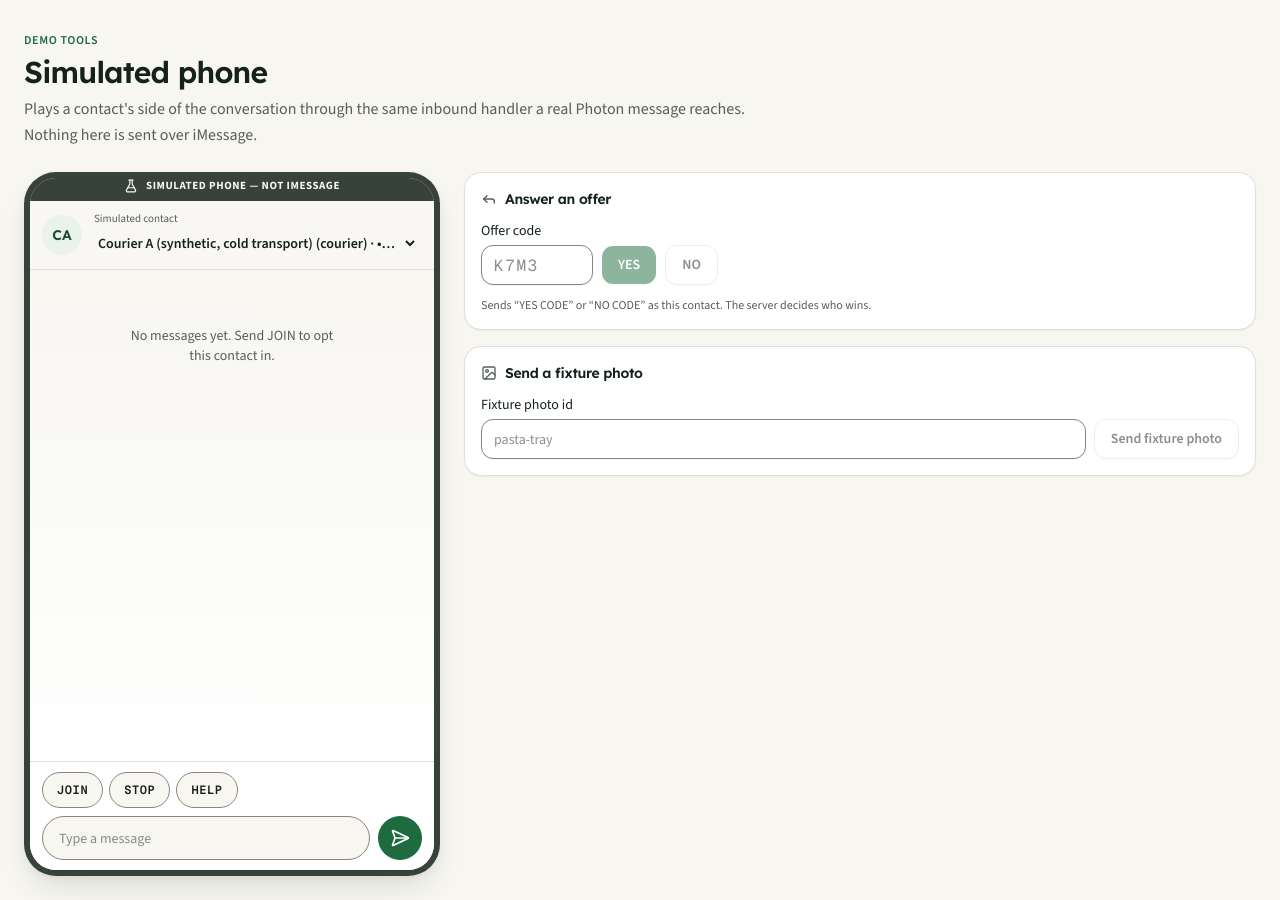
Scenario: SimulatedPhone › shows a server refusal verbatim
The image size is (1280, 900).
Click the button "JOIN": (73, 790) [42,772,103,808]
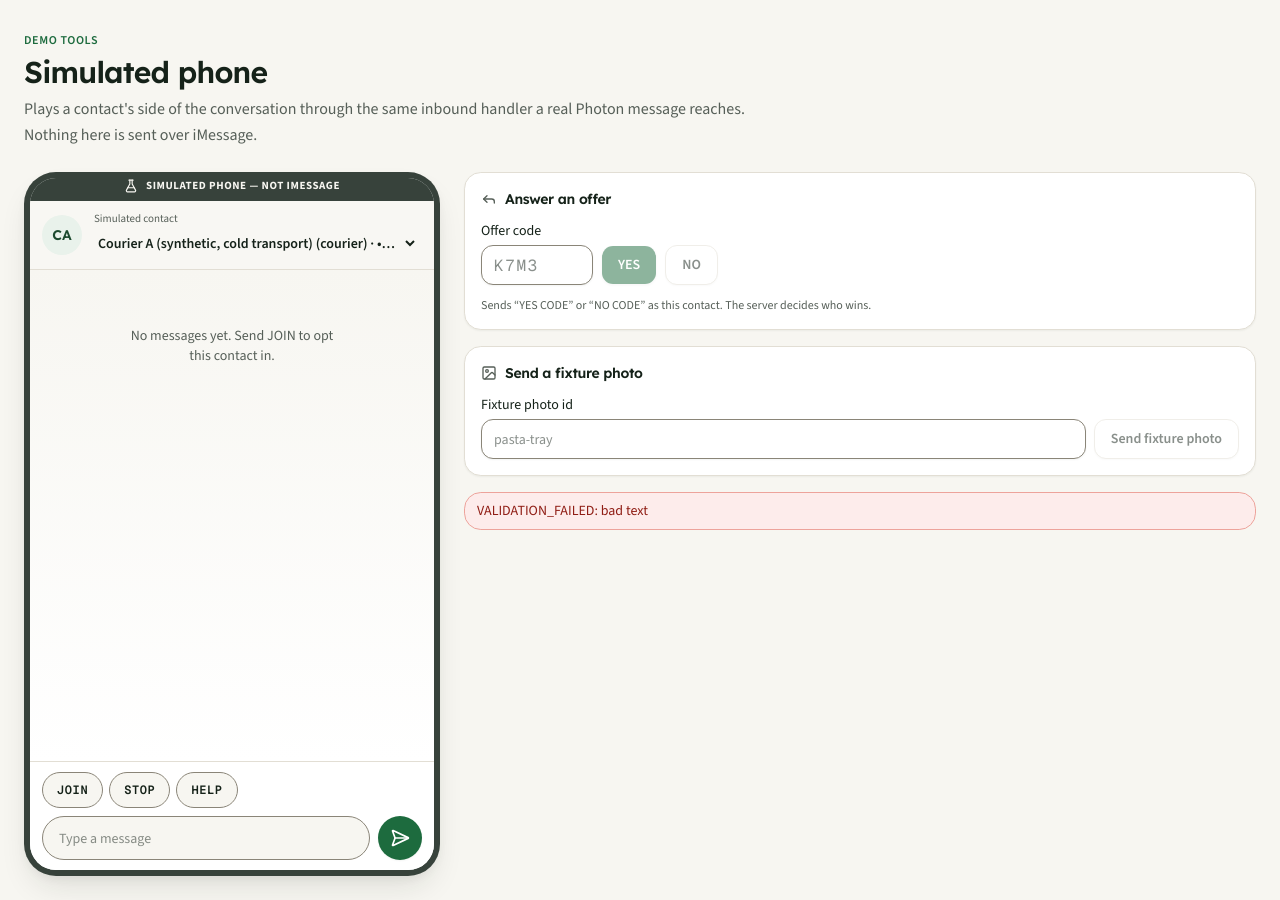
Check: the message reads "VALIDATION_FAILED: bad text", box [477,501,648,520]
